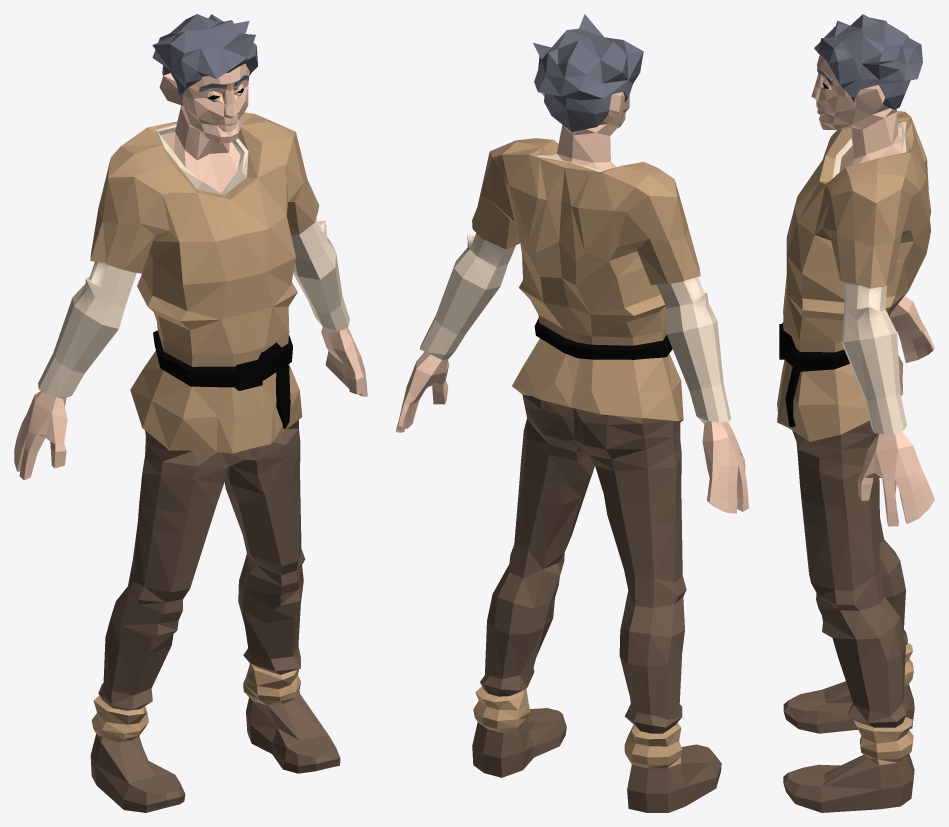
Rendered from peasant_3.glb.
3 renders of one model, left to right at view 1: azimuth 30°, elevation 25°; view 2: azimuth 150°, elevation 25°; view 3: azimuth 270°, elevation 25°, orthographic.
Visible parts, largest first — view 1: peasant_3; view 2: peasant_3; view 3: peasant_3.
Boxes of the visible parts, bbox=[...] form: peasant_3: bbox=[14, 14, 367, 812]; peasant_3: bbox=[396, 14, 748, 812]; peasant_3: bbox=[777, 14, 934, 812].
Size of the model in its own units: 0.8523 by 1.77 by 0.3425.
Materials: 1 (1 with a texture image).
